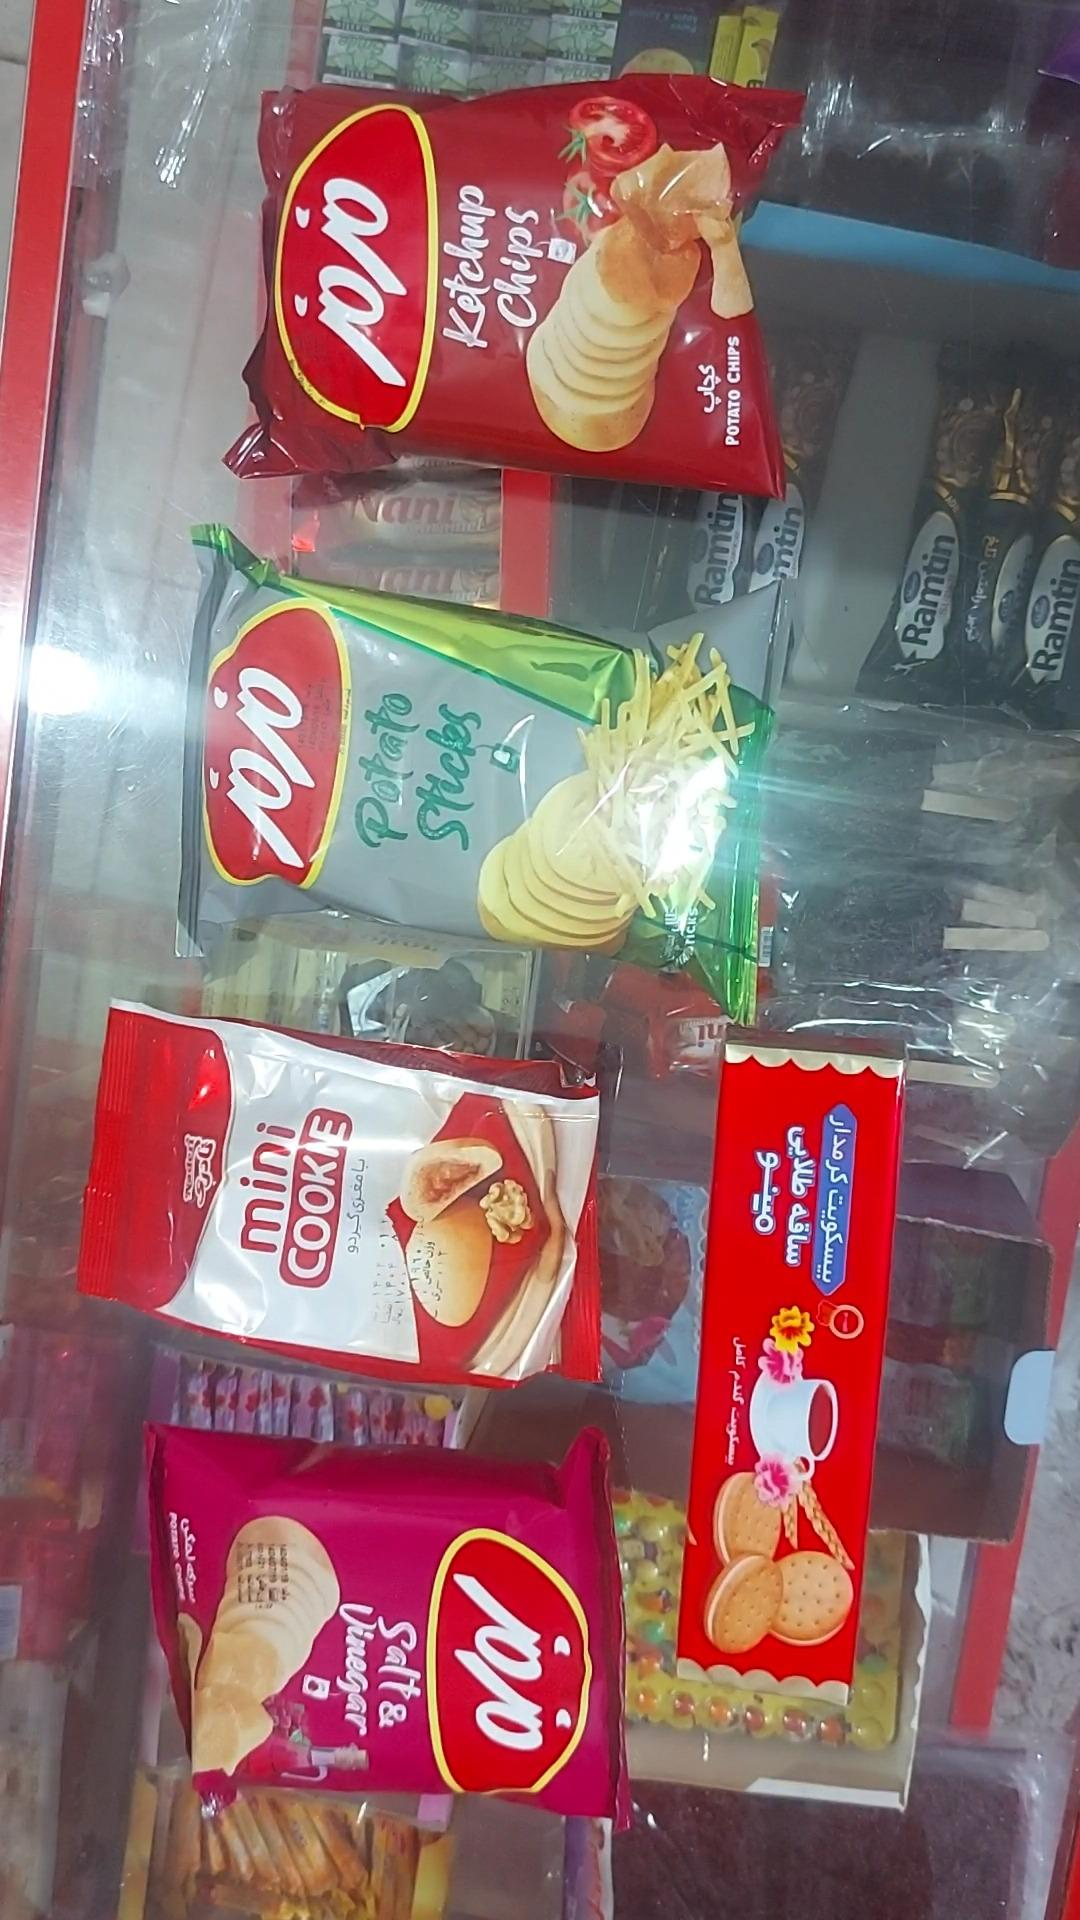Maz Maz ketchup chips: (225, 73, 804, 500)
Maz Maz potato sticks: (174, 524, 782, 1026)
Maz Maz vinegar chips: (142, 1424, 632, 1836)
Minoo cream biscuit: (676, 1040, 906, 1702)
Naderi mini cookie: (76, 1000, 603, 1390)
